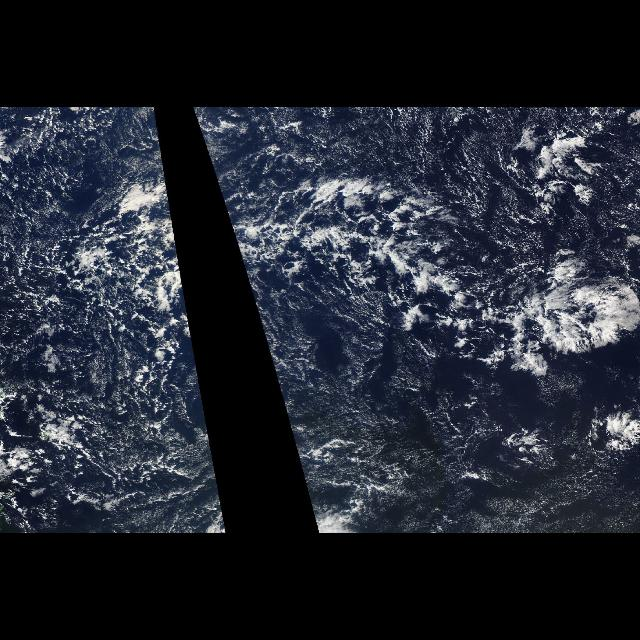Fish: (207, 114, 639, 462), (77, 156, 201, 382)
Gravel: (12, 148, 210, 478)
Sugar: (248, 288, 632, 532), (278, 107, 640, 267)
